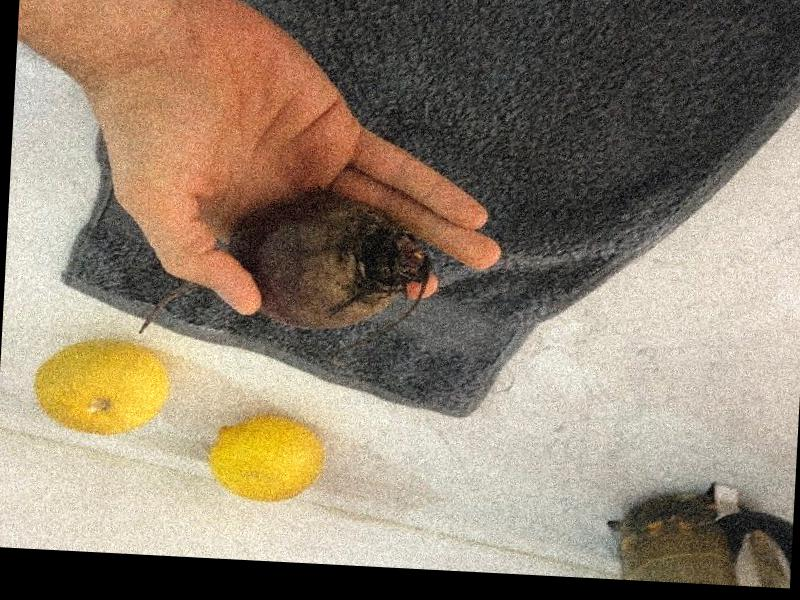Beet: (137, 185, 432, 348)
